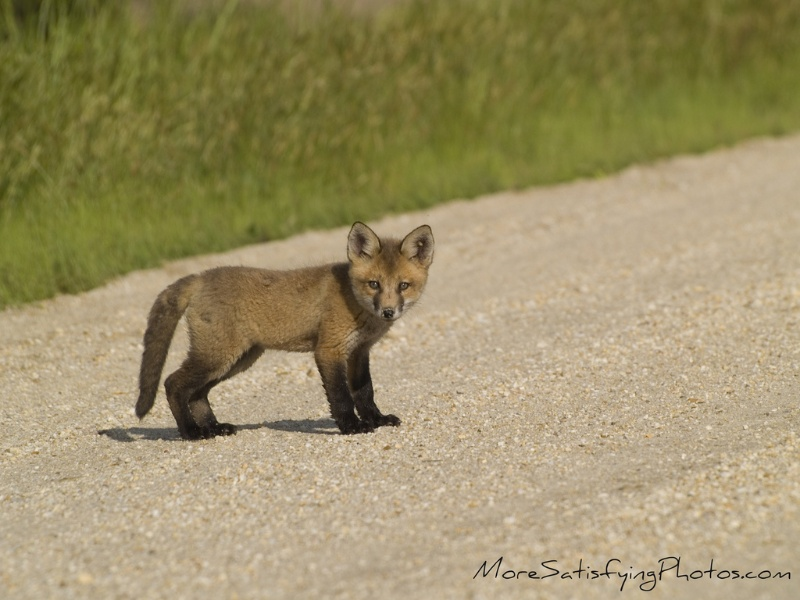fox: (137, 220, 437, 444)
